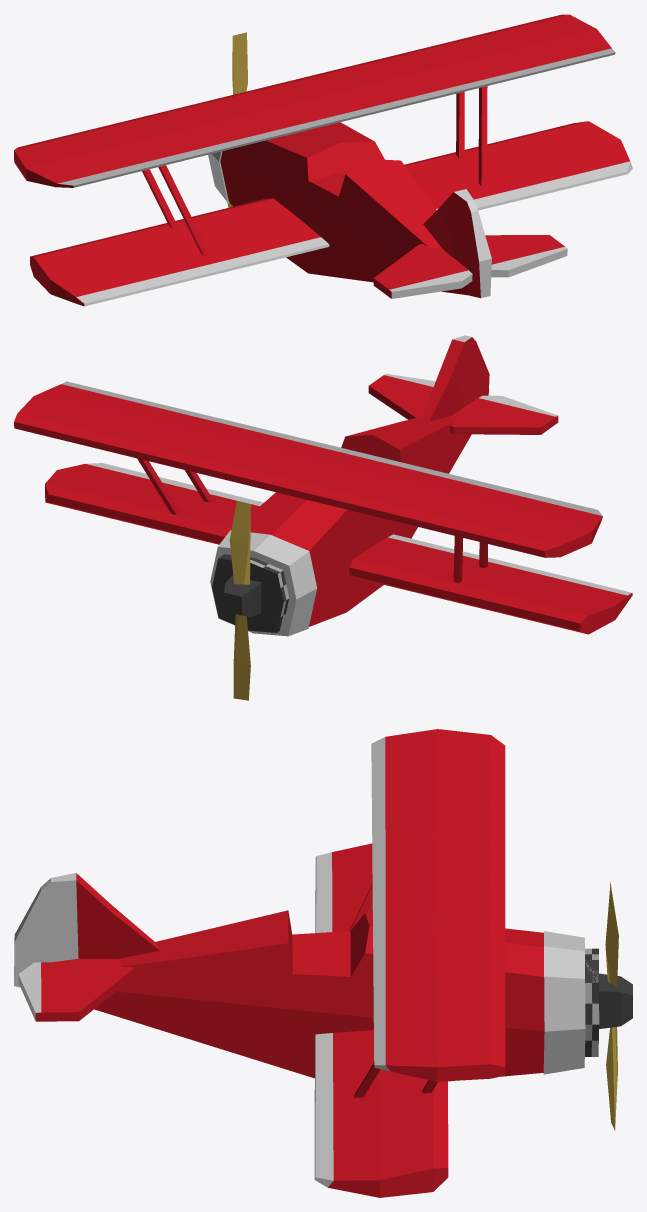
File: plane-red.fbx
The picture shows the model from 3 angles, top to bottom: view 1: azimuth 30°, elevation 25°; view 2: azimuth 150°, elevation 25°; view 3: azimuth 270°, elevation 25°; orthographic projection. The views are drawn at different scales.
Parts seen in each view (by area): view 1: 1 Wings top.001, 1 Wings top, 4 Body, 3 Fins, 5Tail, Cube.001, 5 Posts.002, 5 Posts.003, 5 Posts, 5 Posts.001; view 2: 1 Wings top.001, 1 Wings top, 4 Body, 3 Fins, 5Tail, Cube.001, Cube, 6 Prop, 5 Posts; view 3: 1 Wings top.001, 4 Body, 1 Wings top, 5Tail, 3 Fins, 6 Prop, Cube.001, Cube.
Boxes of the visible parts, x1=… form: 1 Wings top.001: x1=14, y1=14, x2=615, y2=187; 1 Wings top: x1=30, y1=121, x2=632, y2=306; 4 Body: x1=208, y1=122, x2=468, y2=295; 3 Fins: x1=373, y1=235, x2=567, y2=298; 5Tail: x1=423, y1=189, x2=491, y2=298; Cube.001: x1=232, y1=32, x2=247, y2=94; 5 Posts.002: x1=478, y1=86, x2=487, y2=186; 5 Posts.003: x1=158, y1=165, x2=210, y2=256; 5 Posts: x1=456, y1=91, x2=464, y2=158; 5 Posts.001: x1=142, y1=169, x2=178, y2=228; 1 Wings top.001: x1=14, y1=381, x2=602, y2=557; 1 Wings top: x1=45, y1=463, x2=632, y2=634; 4 Body: x1=210, y1=416, x2=471, y2=636; 3 Fins: x1=368, y1=373, x2=558, y2=434; 5Tail: x1=420, y1=335, x2=489, y2=421; Cube.001: x1=229, y1=501, x2=250, y2=584; Cube: x1=233, y1=614, x2=250, y2=700; 6 Prop: x1=224, y1=575, x2=261, y2=617; 5 Posts: x1=137, y1=458, x2=180, y2=514; 1 Wings top.001: x1=371, y1=729, x2=505, y2=1081; 4 Body: x1=94, y1=910, x2=599, y2=1081; 1 Wings top: x1=314, y1=843, x2=448, y2=1197; 5Tail: x1=14, y1=873, x2=159, y2=987; 3 Fins: x1=18, y1=958, x2=132, y2=1021; 6 Prop: x1=599, y1=973, x2=632, y2=1028; Cube.001: x1=605, y1=881, x2=618, y2=986; Cube: x1=606, y1=1027, x2=617, y2=1130.
Bounding box in the file's own units: 452 × 156 × 349.
